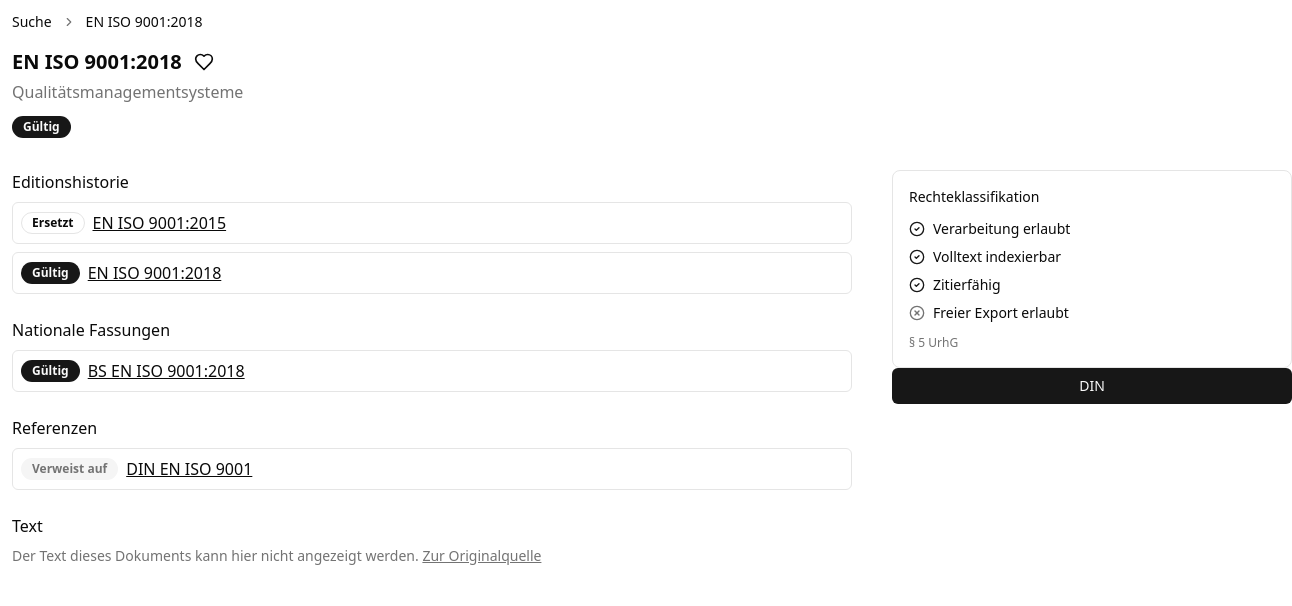
Scenario: DocumentDetailContent › keeps the previous heart state and shows an error when the add request fails
Click the button with test id "watchlist-toggle" at (204, 62), box top-left (194, 52), bottom-right (214, 72)
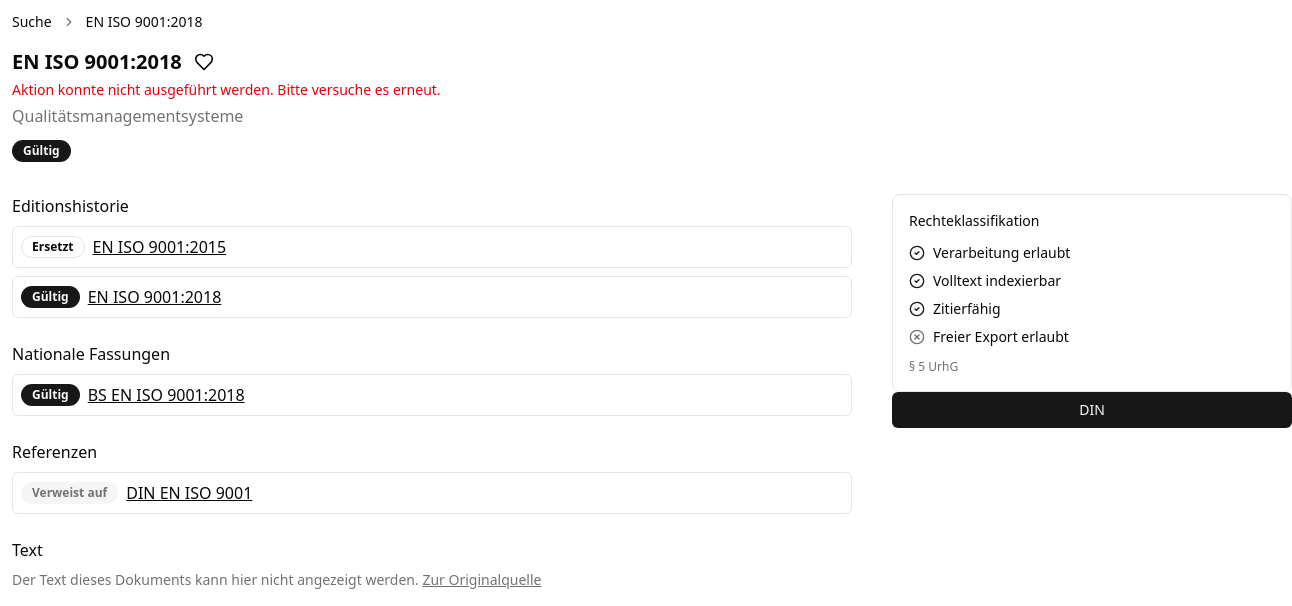
Now the text "Aktion konnte nicht ausgeführt werden. Bitte versuche es erneut." is shown, box top-left (12, 80), bottom-right (441, 99)
